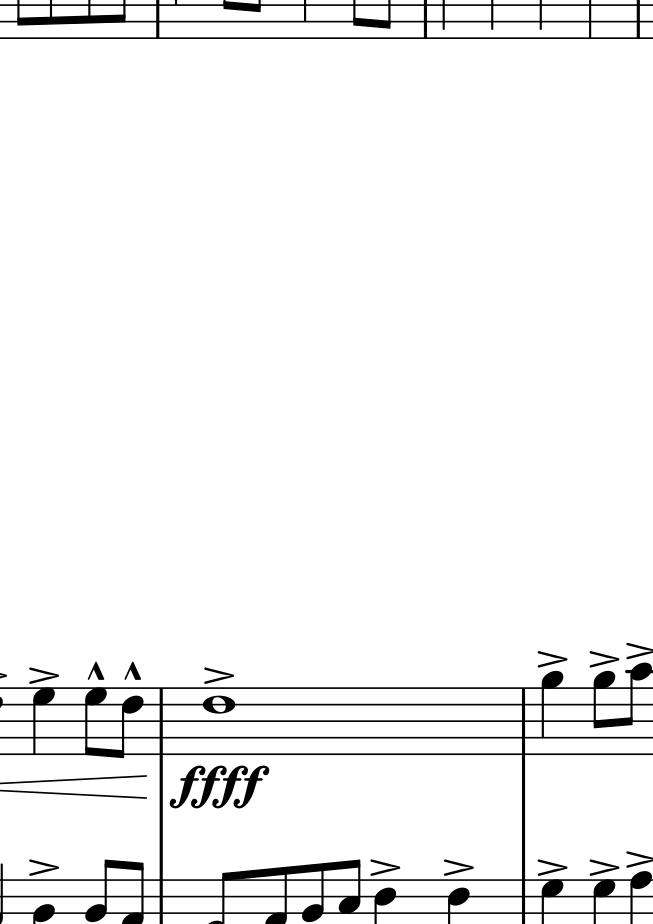1_6: (202, 687, 236, 758)
4_7: (29, 686, 56, 758)
4_9: (540, 669, 564, 756)
8_10: (623, 661, 652, 756)
8_6: (114, 687, 144, 761)
8_7: (82, 686, 107, 758)
8_9: (591, 670, 616, 756)
Accent_above: (588, 856, 622, 877), (625, 847, 653, 872), (26, 666, 61, 684), (536, 648, 566, 669), (536, 858, 566, 879), (369, 857, 400, 877), (26, 859, 60, 877), (200, 665, 232, 684), (441, 858, 473, 876), (588, 651, 617, 669), (625, 642, 653, 660)
Marcato_above: (122, 660, 140, 684), (87, 661, 105, 682)
Single_barline: (515, 688, 533, 755), (154, 689, 168, 756)
ffff: (169, 764, 273, 811)
